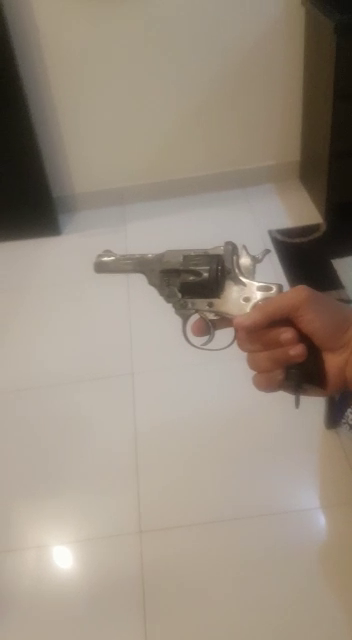handgun: (85, 237, 330, 414)
